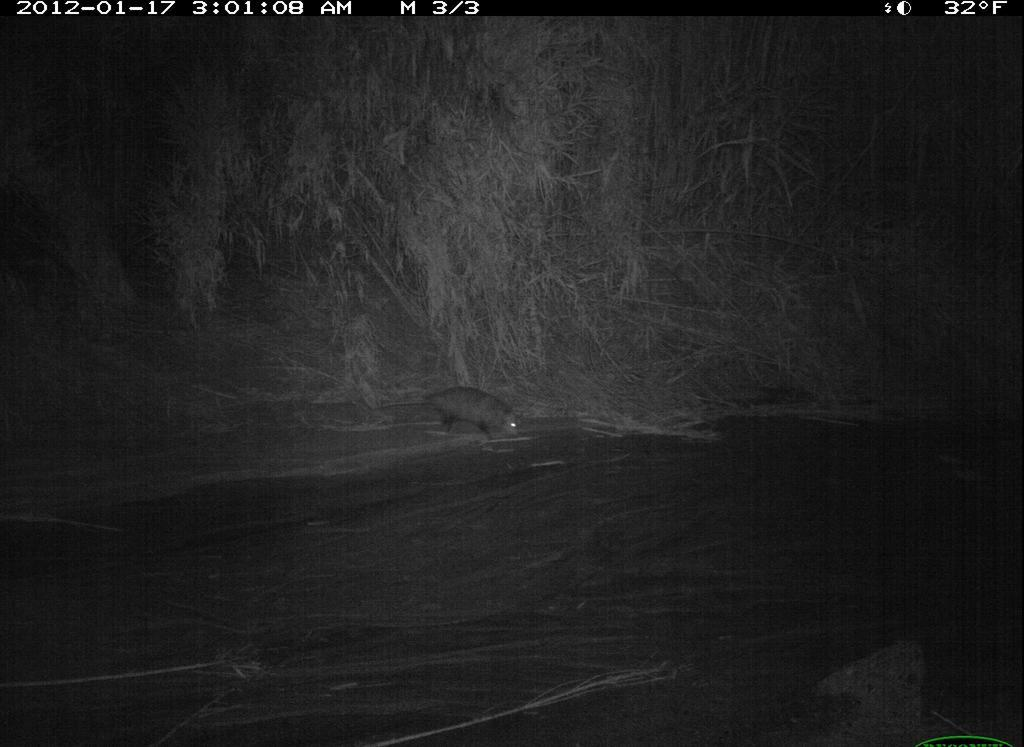opossum: (382, 372, 542, 464)
